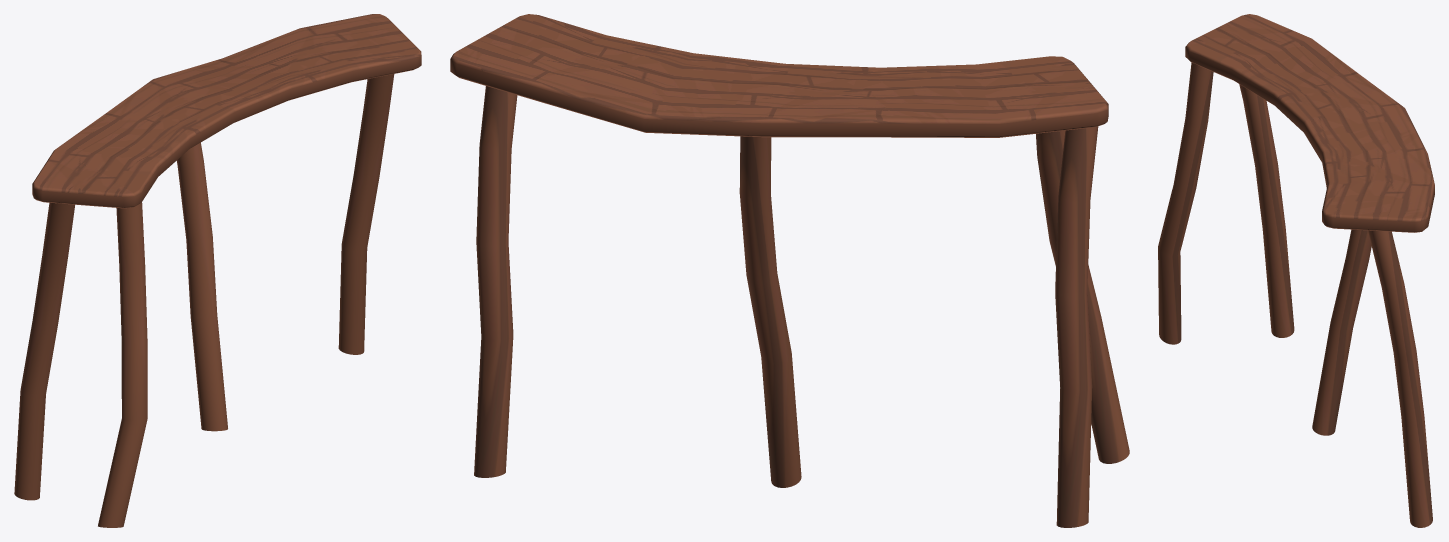
File: aanggnag_platform_01.fbx
3 renders of one model, left to right at view 1: azimuth 30°, elevation 25°; view 2: azimuth 150°, elevation 25°; view 3: azimuth 270°, elevation 25°, orthographic. The views are drawn at different scales.
Parts seen in each view (by area): view 1: aanggnag_platform_01; view 2: aanggnag_platform_01; view 3: aanggnag_platform_01.
Part boxes in pixels (<box>): aanggnag_platform_01: <box>14,14,421,527</box>; aanggnag_platform_01: <box>450,14,1129,527</box>; aanggnag_platform_01: <box>1158,14,1434,527</box>.
Bounding box in the file's own units: 704 × 505 × 398.
1 material, 1 textured.
